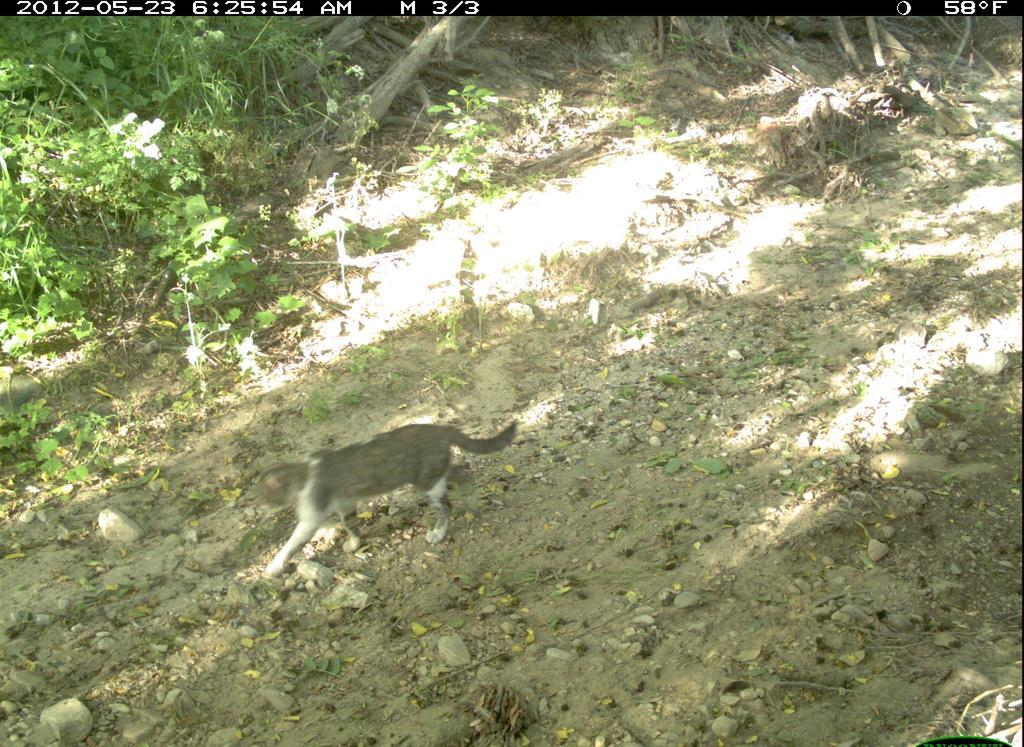cat: (240, 410, 529, 588)
